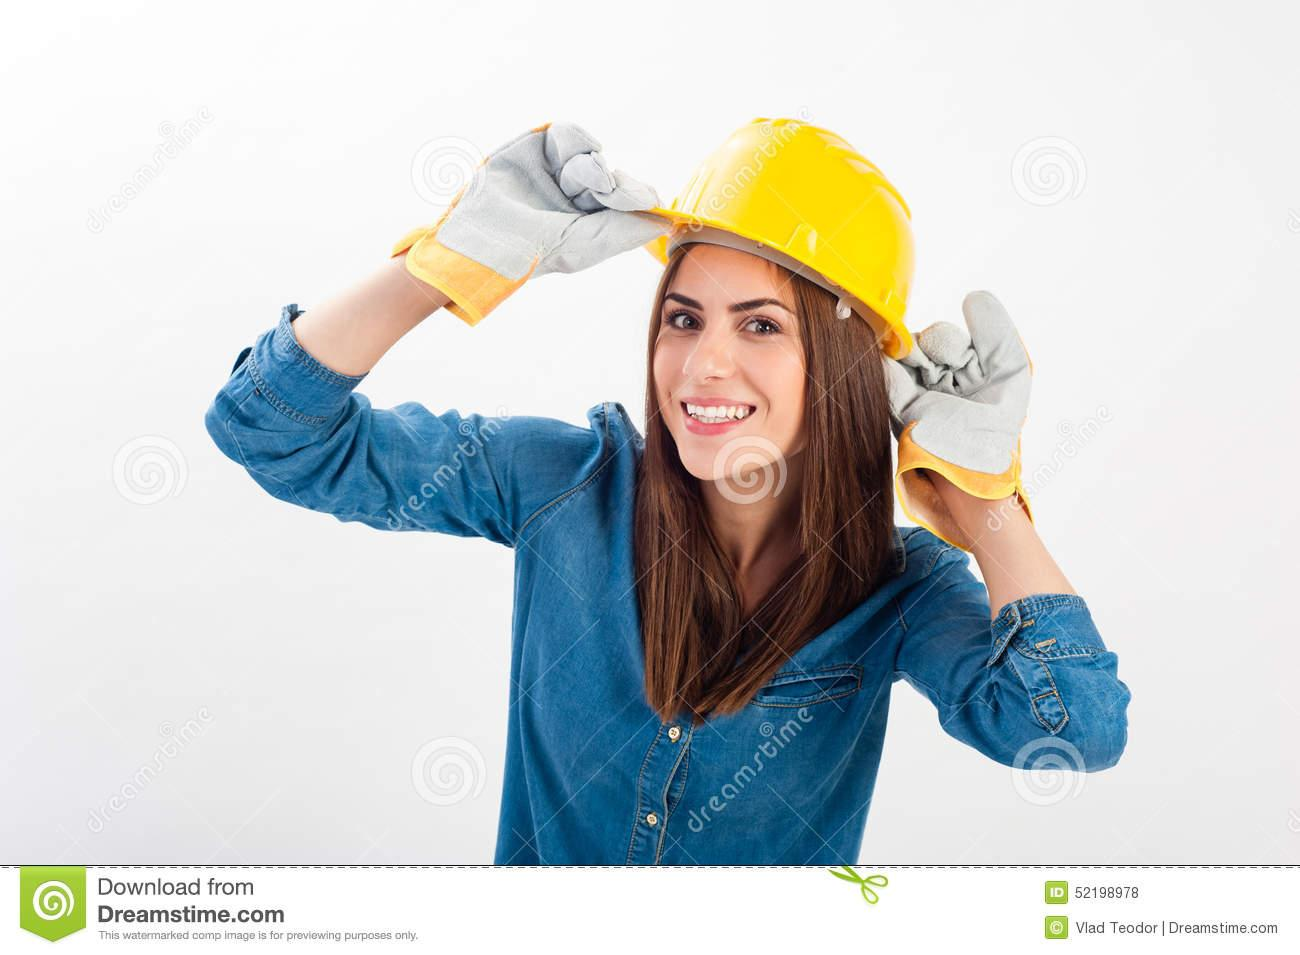helmet: (626, 113, 919, 367)
